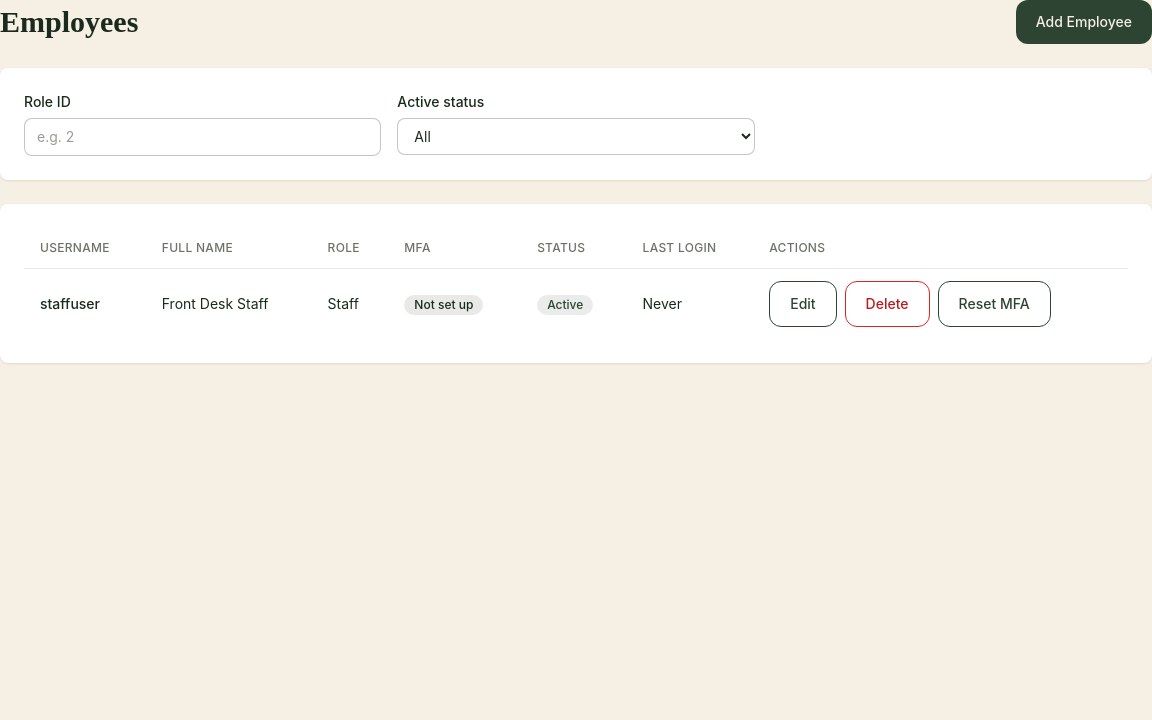
Test case: EmployeesPage self-lockout protection › renders the generic fallback (not the self-lockout message) for a non-403 update failure
Expected: the text "staffuser" is shown, top-left (24, 268), bottom-right (146, 339)
Click the button "Edit" at coordinates (803, 304), box top-left (769, 281), bottom-right (837, 327)
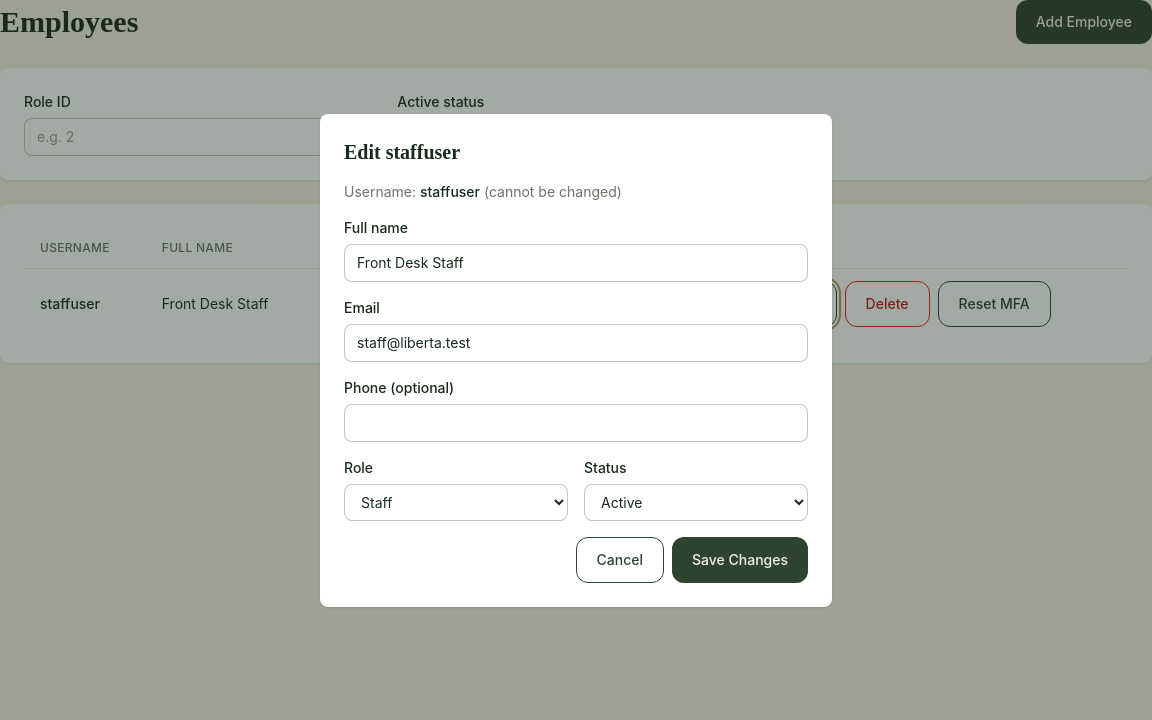
Select "Inactive (cannot log in)" in the dropdown labelled "Status" at coordinates (696, 502), box top-left (584, 484), bottom-right (808, 520)
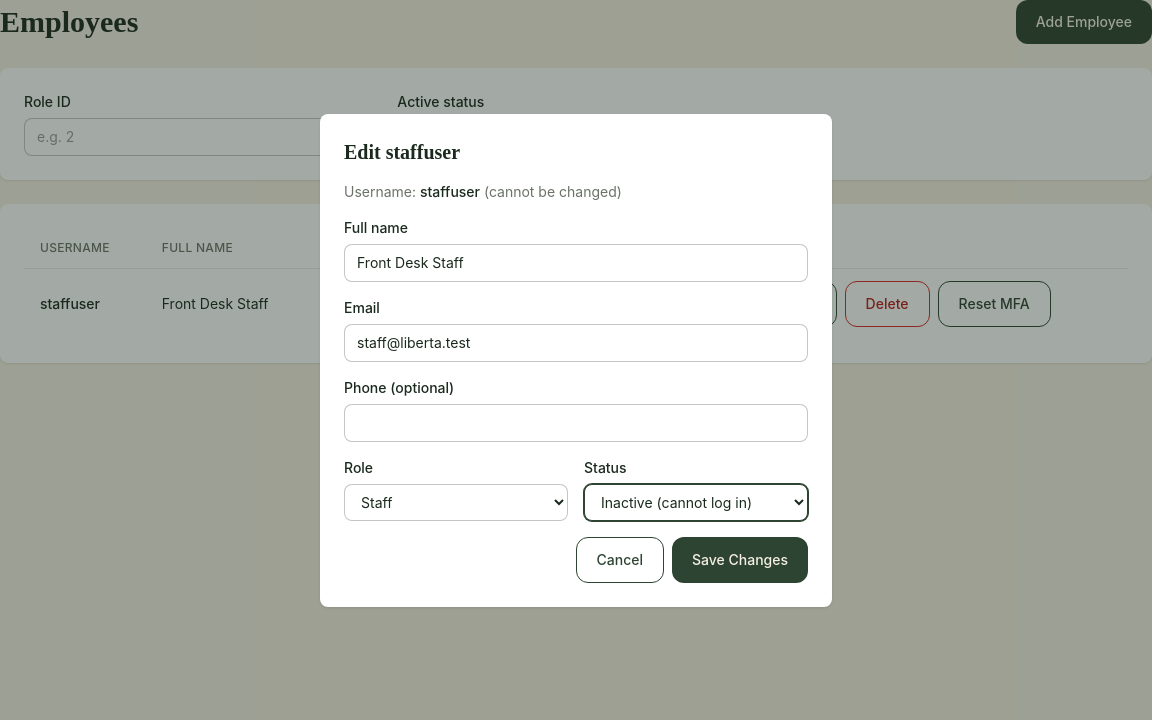
Click the button "Save Changes" at coordinates (740, 560), box top-left (672, 536), bottom-right (808, 582)
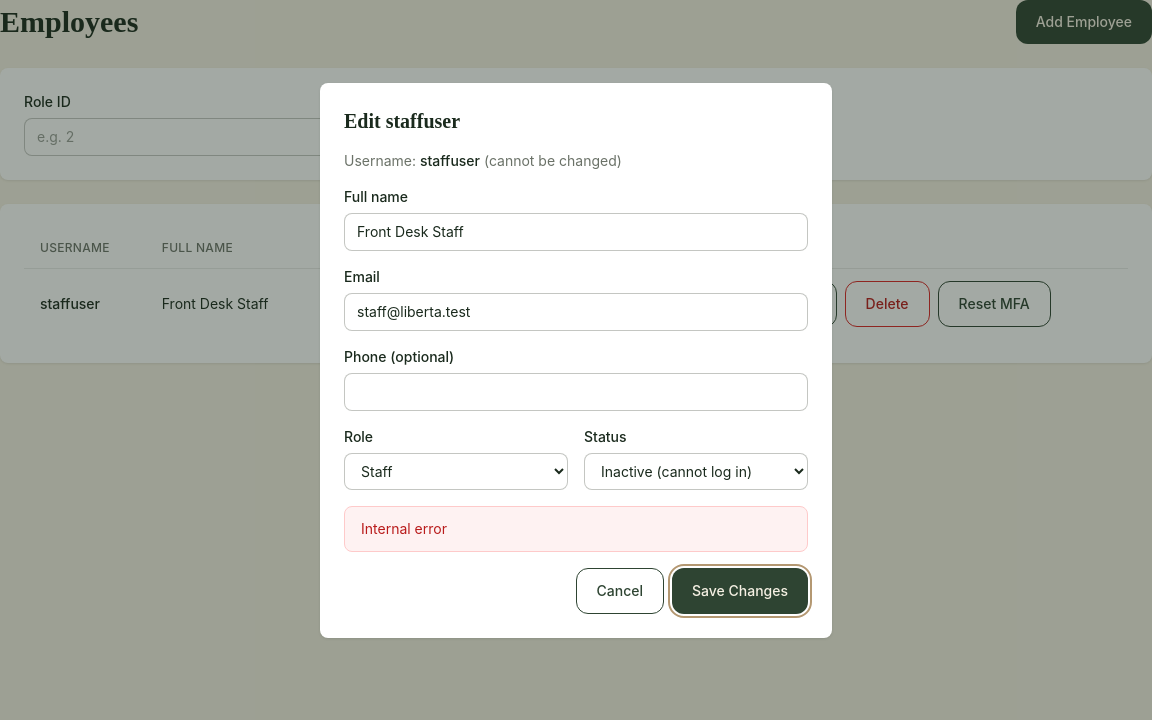
Expected: the text "Internal error" is shown, top-left (344, 506), bottom-right (808, 552)
